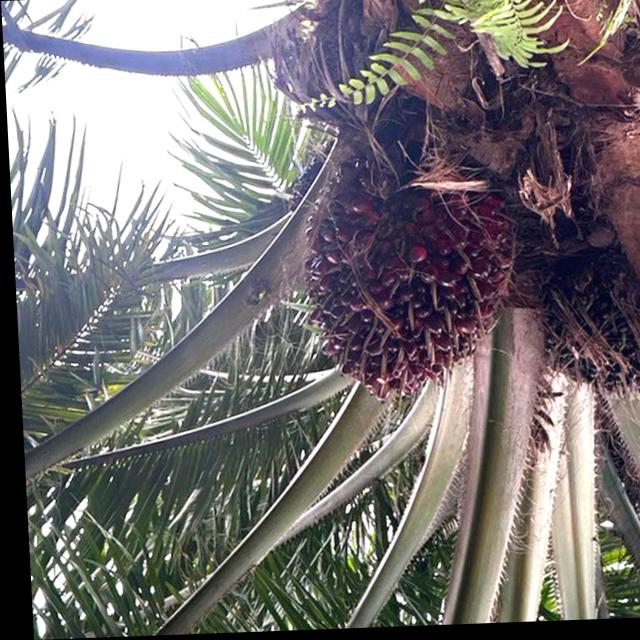ripe: (290, 172, 525, 410), (528, 260, 640, 406)
